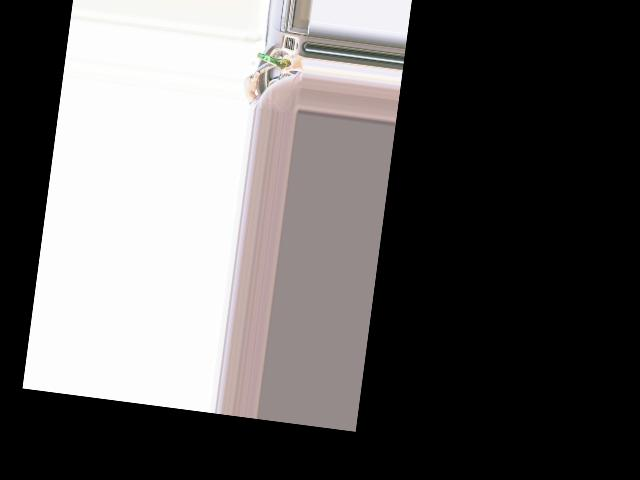beer: (254, 51, 304, 77)
